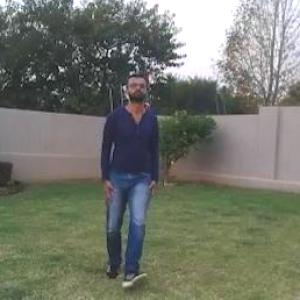follow: (98, 60, 164, 285)
